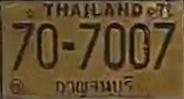0: (103, 22, 125, 69), (128, 22, 150, 69), (36, 23, 57, 68)
7: (153, 21, 175, 69), (11, 22, 33, 70), (78, 22, 100, 69)
KRI: (51, 75, 135, 98)
